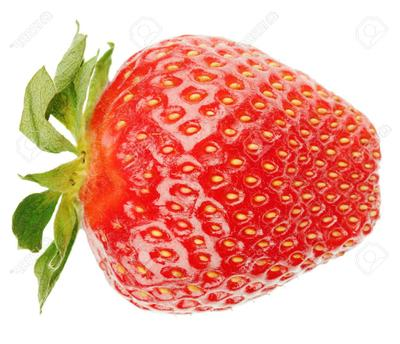strawberry: (0, 0, 400, 344)
